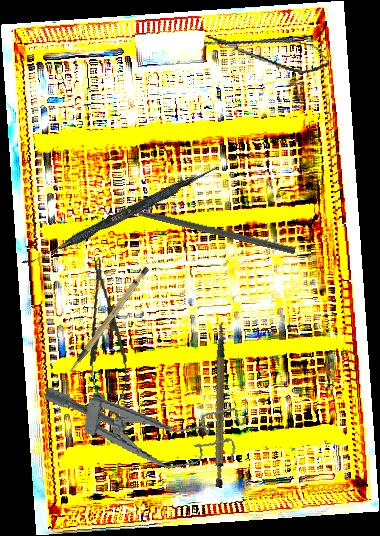Hook Surgical: (113, 200, 297, 255)
Micro Scissor: (202, 21, 332, 79)
Needle Holder: (79, 254, 133, 419)
Scalpel Handle: (53, 265, 162, 374), (193, 321, 251, 489)
Spatula Surgical: (21, 159, 221, 273)
Speculum: (36, 372, 248, 481)
